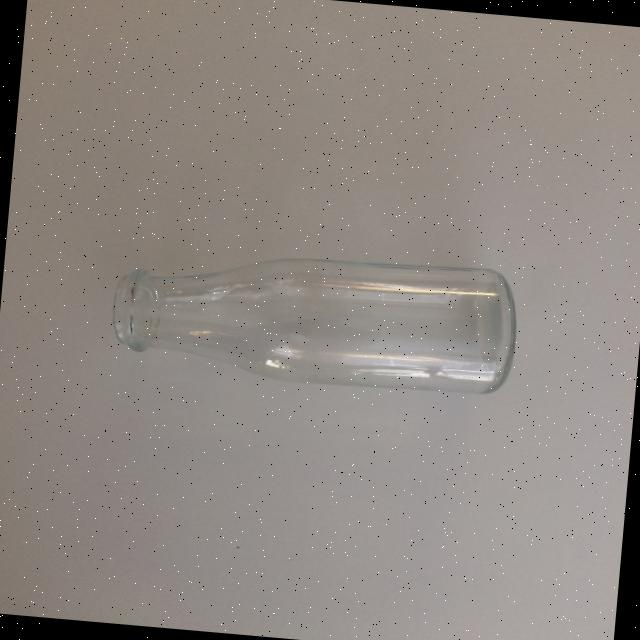glass: (108, 238, 515, 400)
